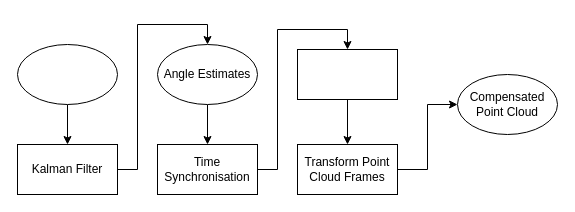
Image size: 575x212. Some labels were removed from this diagram. The shapes that lost their labels are listed below. From the top down, each one's centre as x and y in pixels, then its label:
pixel 67 74: Raw LiDAR Data
pixel 347 74: Create 3-D Transform
